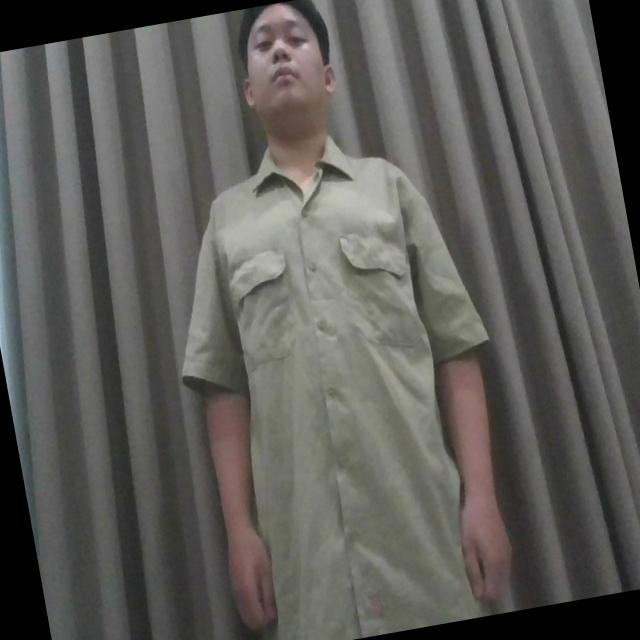short_Sleeve_shirt: (182, 136, 486, 640)
